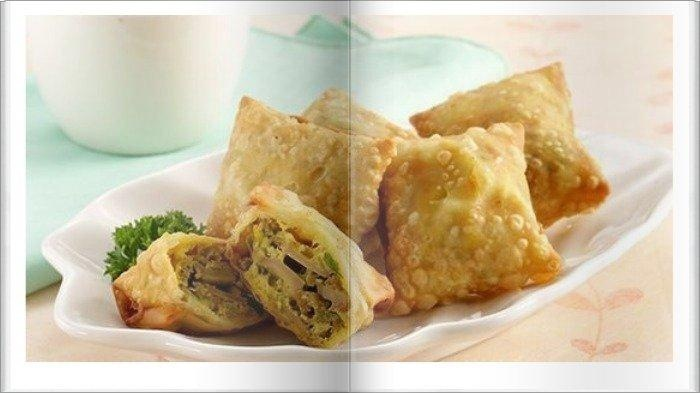martabak: (111, 60, 610, 349)
